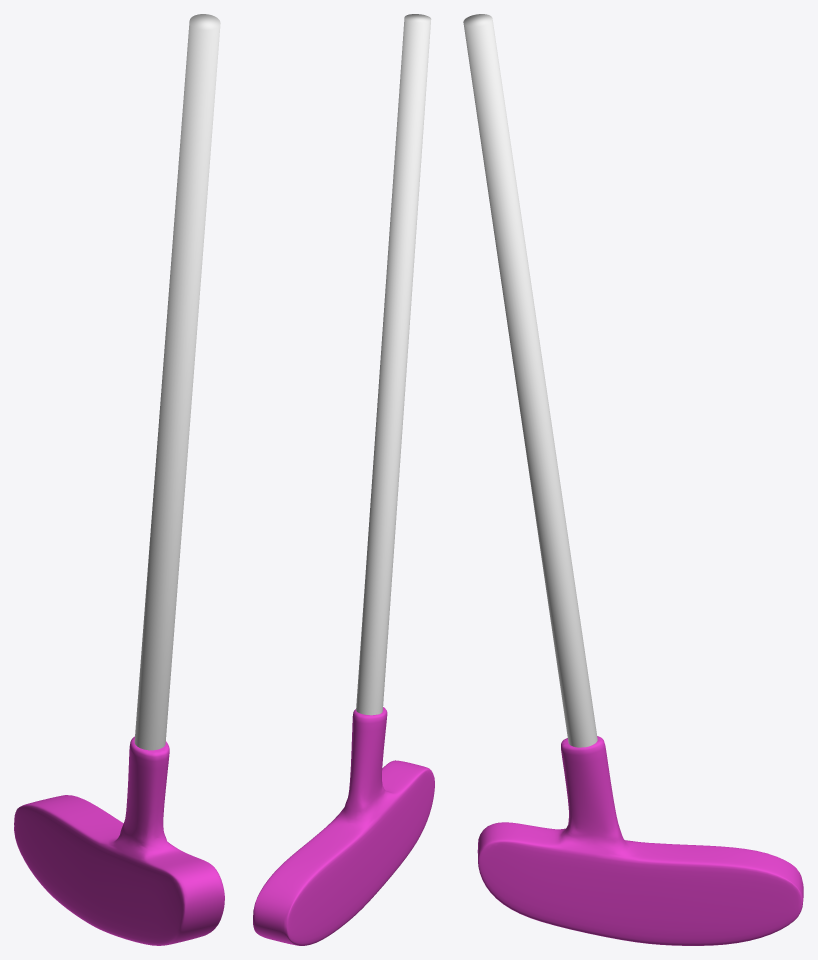
File: Putter.fbx
The picture shows the model from 3 angles, left to right: view 1: azimuth 30°, elevation 25°; view 2: azimuth 150°, elevation 25°; view 3: azimuth 270°, elevation 25°; orthographic projection. The views are drawn at different scales.
Parts seen in each view (by area): view 1: Putter; view 2: Putter; view 3: Putter.
Part boxes in pixels (x1,y1,x2,y2): Putter: [14, 14, 224, 945]; Putter: [253, 14, 434, 945]; Putter: [463, 14, 803, 945].
Size of what is drawn, in the model's own units: 84.77 by 12.45 by 253.
